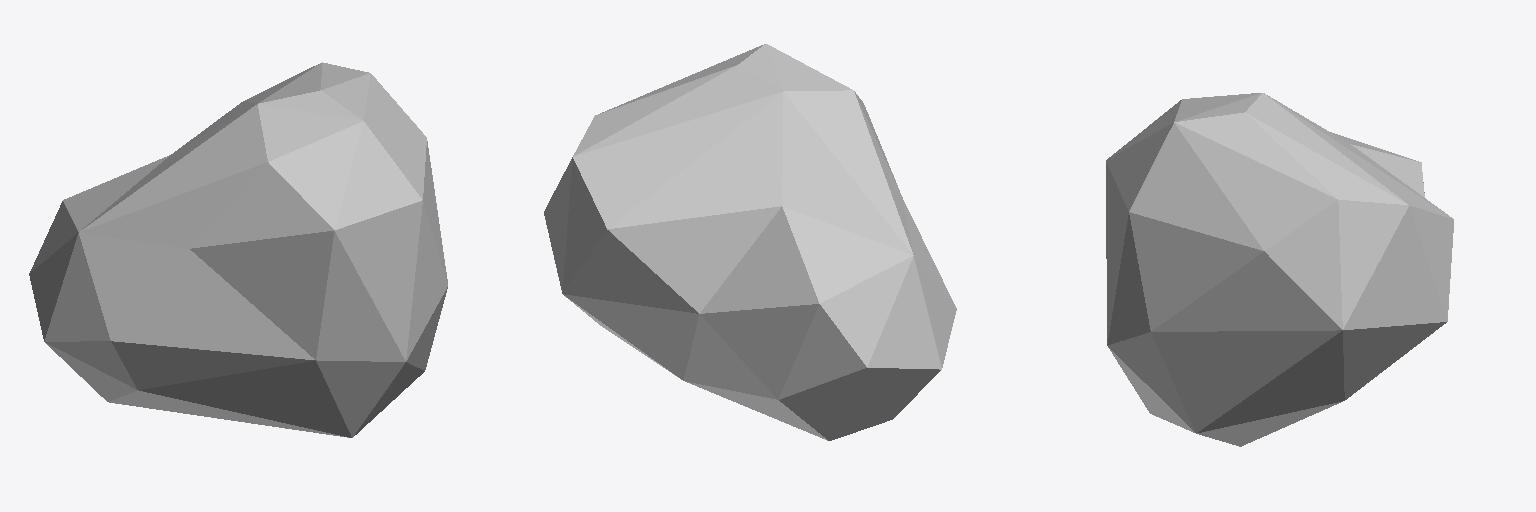
Rendered from ast1.obj.
The picture shows the model from 3 angles: view 1: azimuth 30°, elevation 25°; view 2: azimuth 150°, elevation 25°; view 3: azimuth 270°, elevation 25°; orthographic projection.
Parts seen in each view (by area): view 1: asteroid_Mesh; view 2: asteroid_Mesh; view 3: asteroid_Mesh.
Boxes of the visible parts, box(x1,y1,x2,y2) form: asteroid_Mesh: box(29, 62, 447, 437); asteroid_Mesh: box(544, 44, 956, 440); asteroid_Mesh: box(1106, 93, 1453, 446).
Size of the model in its own units: 4.29 by 3.54 by 3.35.